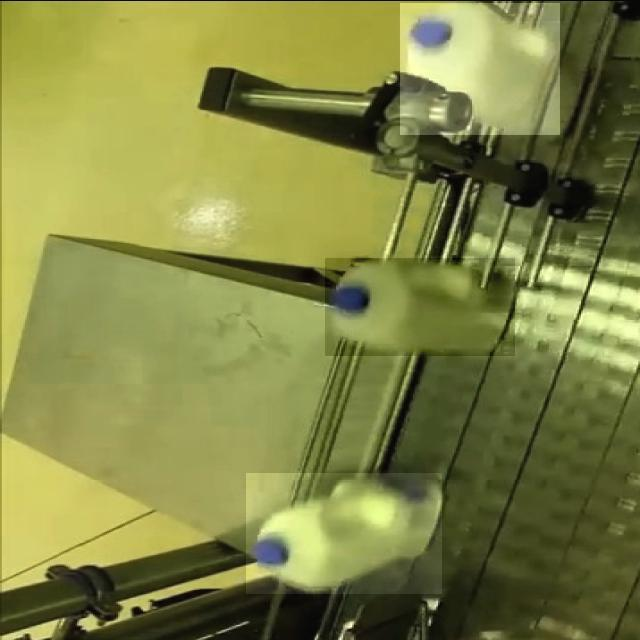milk: (255, 479, 461, 601), (320, 254, 522, 371), (401, 9, 556, 138)
